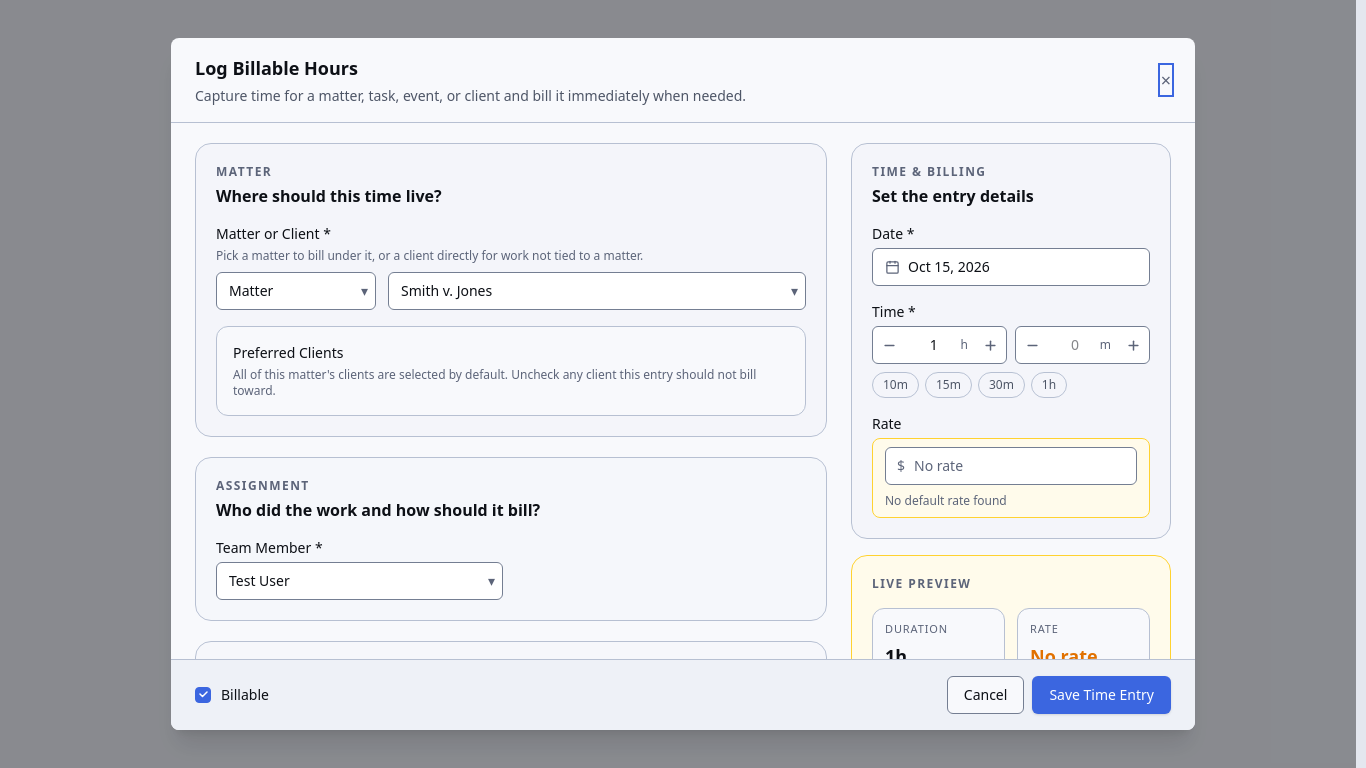
it: TimeEntryModal › team member choices › offers only the viewer without billing.manageOthersTimeEntries
Expected: the text "Smith v. Jones" is shown, [401,281,492,301]
Click the button "Test User ▾" at point(259, 581), box [216,562,503,600]
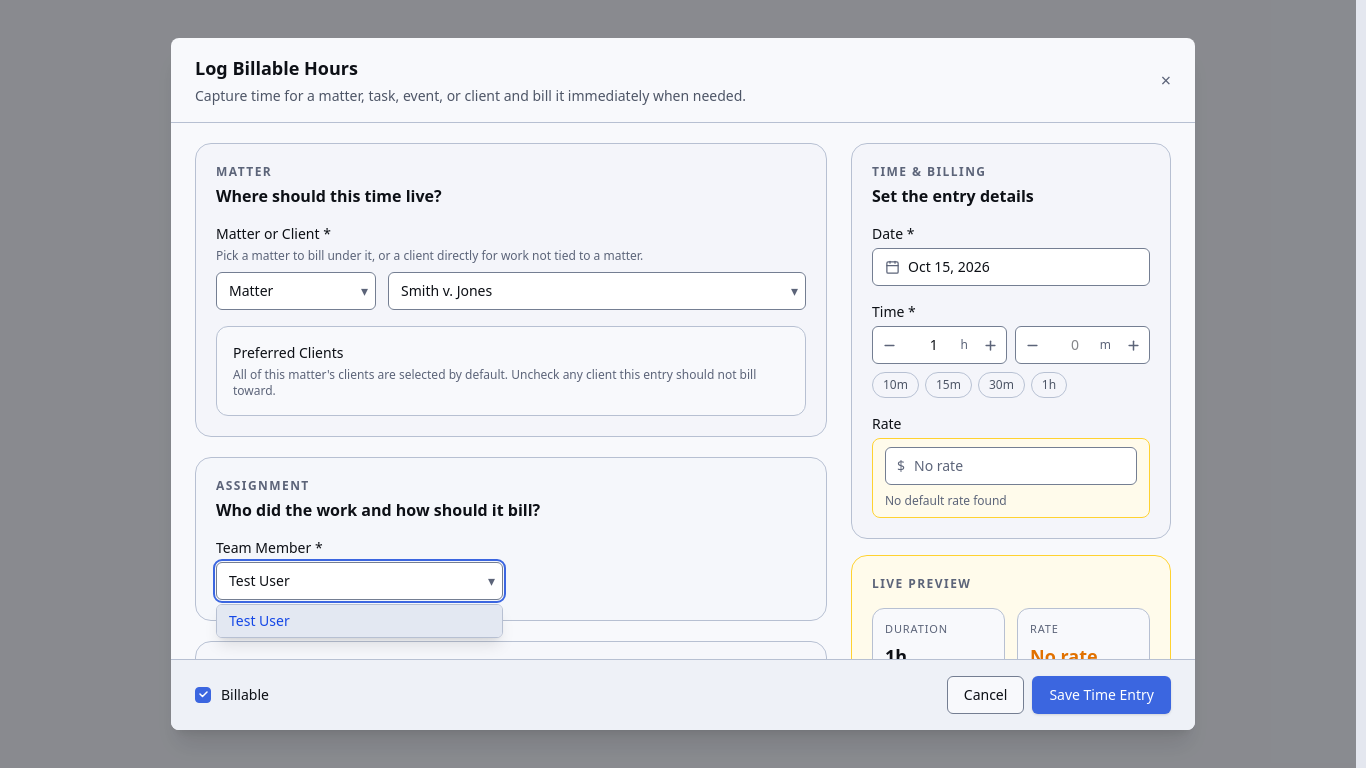
Now the option "Test User" is shown, box [217,605,502,637]
